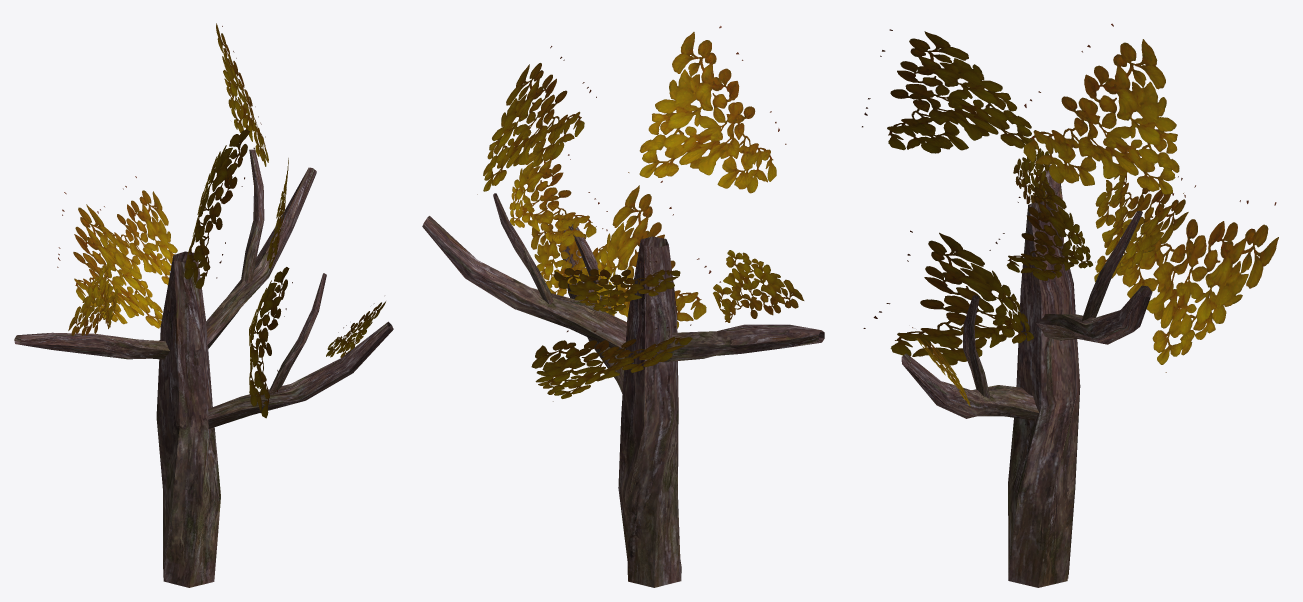
The model's file is shamo_shu_1.fbx.
3 renders of one model, left to right at view 1: azimuth 30°, elevation 25°; view 2: azimuth 150°, elevation 25°; view 3: azimuth 270°, elevation 25°, orthographic. The views are drawn at different scales.
Parts seen in each view (by area): view 1: polySurface196, polySurface211, polySurface200, polySurface215, polySurface198, polySurface208, polySurface195, polySurface206, polySurface202, polySurface203, polySurface197, polySurface199 (+2 smaller); view 2: polySurface196, polySurface208, polySurface198, polySurface202, polySurface212, polySurface195, polySurface210, polySurface206, polySurface204, polySurface216, polySurface214, polySurface197 (+2 smaller); view 3: polySurface196, polySurface201, polySurface211, polySurface207, polySurface205, polySurface215, polySurface209, polySurface200, polySurface198, polySurface197, polySurface199, polySurface203 (+1 smaller).
Boxes of the visible parts, bbox=[...] form: polySurface196: bbox=[156, 251, 220, 587]; polySurface211: bbox=[57, 192, 162, 328]; polySurface200: bbox=[208, 321, 393, 428]; polySurface215: bbox=[92, 176, 177, 284]; polySurface198: bbox=[206, 167, 316, 348]; polySurface208: bbox=[184, 129, 254, 288]; polySurface195: bbox=[14, 332, 169, 359]; polySurface206: bbox=[249, 267, 292, 417]; polySurface202: bbox=[216, 23, 268, 166]; polySurface203: bbox=[68, 260, 117, 335]; polySurface197: bbox=[240, 149, 264, 283]; polySurface199: bbox=[269, 273, 326, 393]; polySurface196: bbox=[618, 236, 681, 587]; polySurface208: bbox=[628, 26, 786, 193]; polySurface198: bbox=[422, 216, 626, 351]; polySurface202: bbox=[483, 46, 596, 191]; polySurface212: bbox=[531, 325, 692, 401]; polySurface195: bbox=[655, 324, 824, 362]; polySurface210: bbox=[510, 138, 607, 246]; polySurface206: bbox=[594, 181, 720, 328]; polySurface204: bbox=[713, 250, 803, 322]; polySurface216: bbox=[553, 260, 680, 316]; polySurface214: bbox=[531, 208, 615, 295]; polySurface197: bbox=[493, 193, 553, 304]; polySurface196: bbox=[1008, 201, 1080, 587]; polySurface201: bbox=[1013, 24, 1183, 194]; polySurface211: bbox=[1116, 190, 1278, 372]; polySurface207: bbox=[862, 29, 1038, 153]; polySurface205: bbox=[863, 231, 1033, 365]; polySurface215: bbox=[1094, 155, 1195, 281]; polySurface209: bbox=[989, 178, 1095, 280]; polySurface200: bbox=[901, 353, 1038, 420]; polySurface198: bbox=[1036, 285, 1152, 344]; polySurface197: bbox=[1082, 210, 1142, 321]; polySurface199: bbox=[963, 295, 990, 398]; polySurface203: bbox=[1013, 148, 1055, 206].
Bounding box in the file's own units: 11.52 × 16.8 × 11.12.
